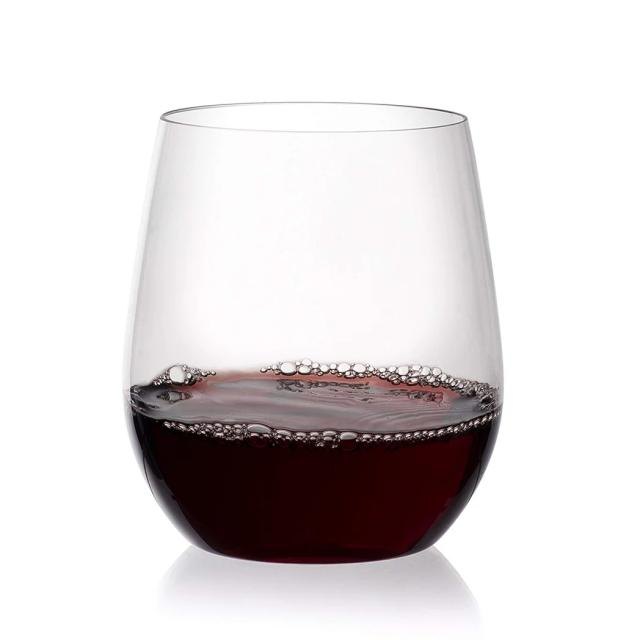Cup: (128, 92, 508, 556)
